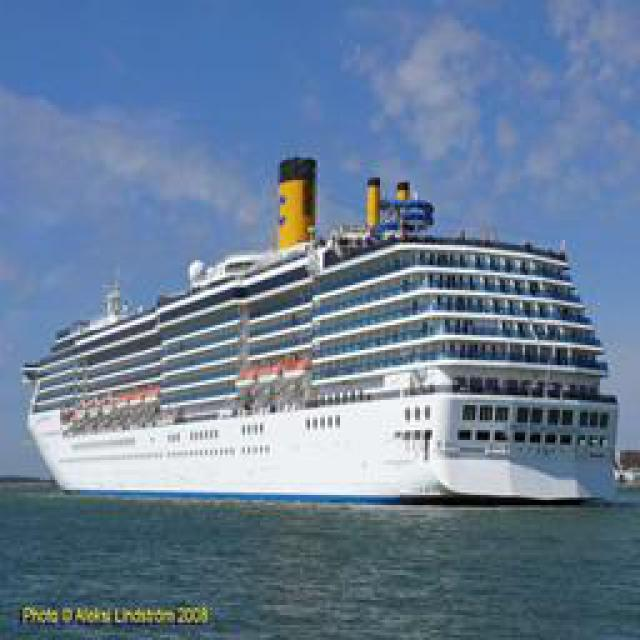Ship: (32, 156, 612, 506)
